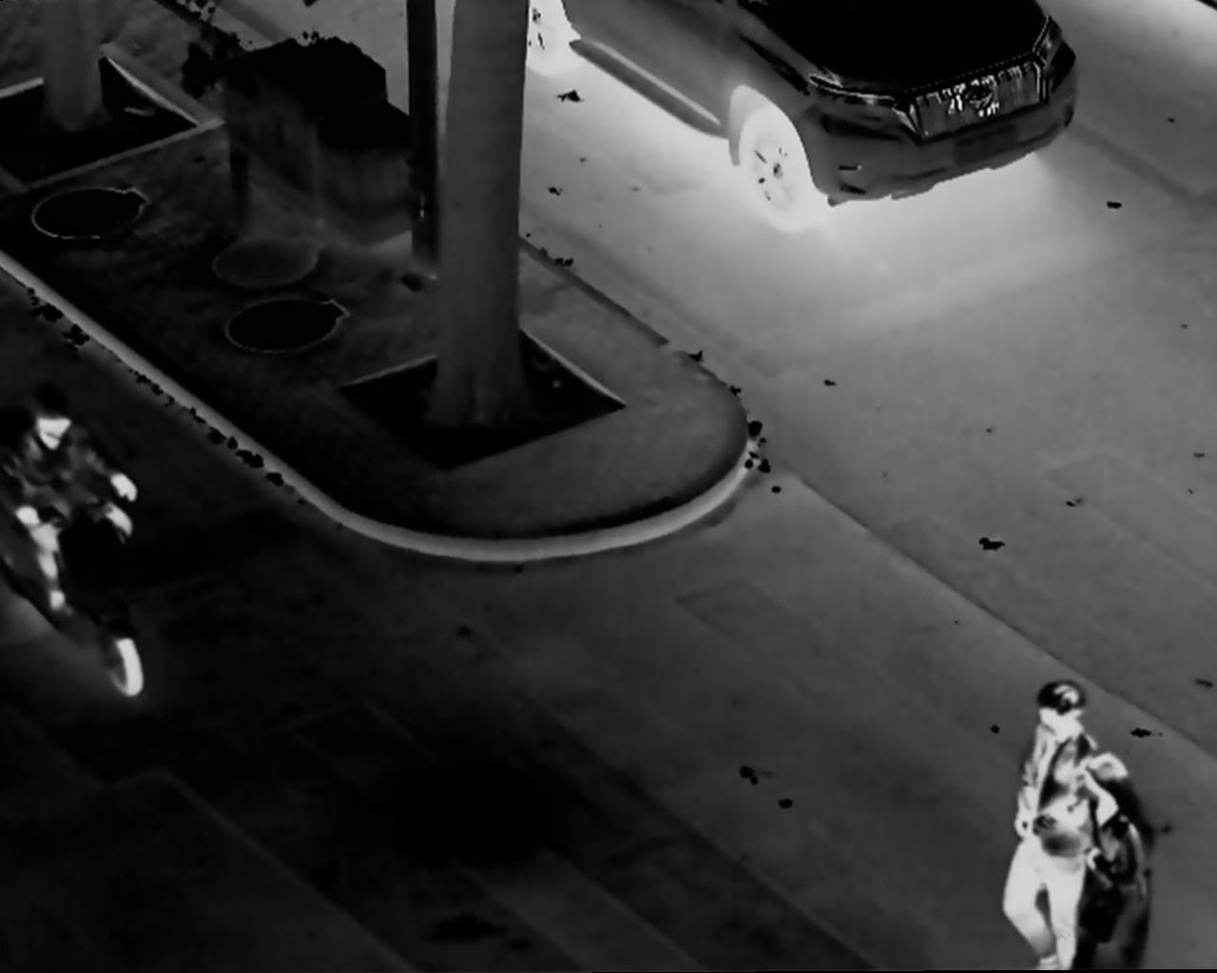person: (2, 398, 142, 638), (1004, 678, 1098, 949), (1080, 754, 1169, 973)
